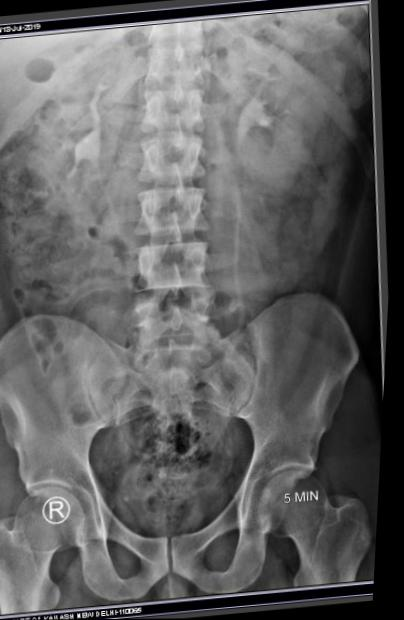vertebrae: (149, 77, 212, 133)
